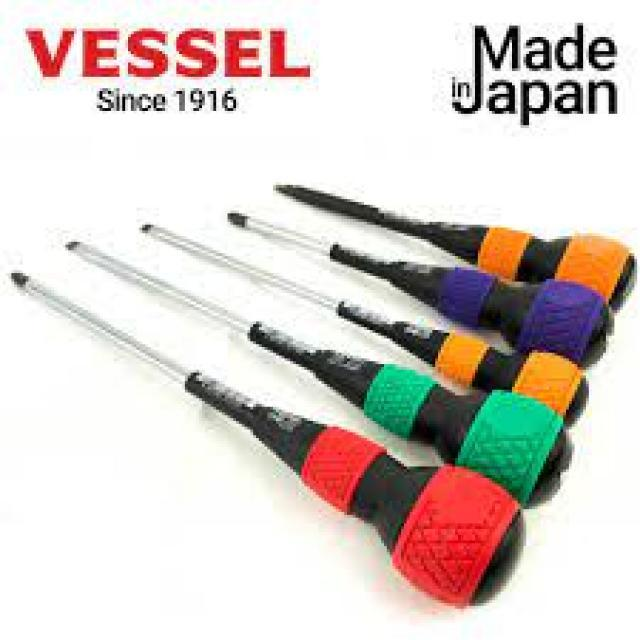screwdriver: (6, 269, 530, 613), (61, 232, 576, 505), (135, 214, 593, 426), (215, 201, 616, 371), (270, 168, 640, 310)
